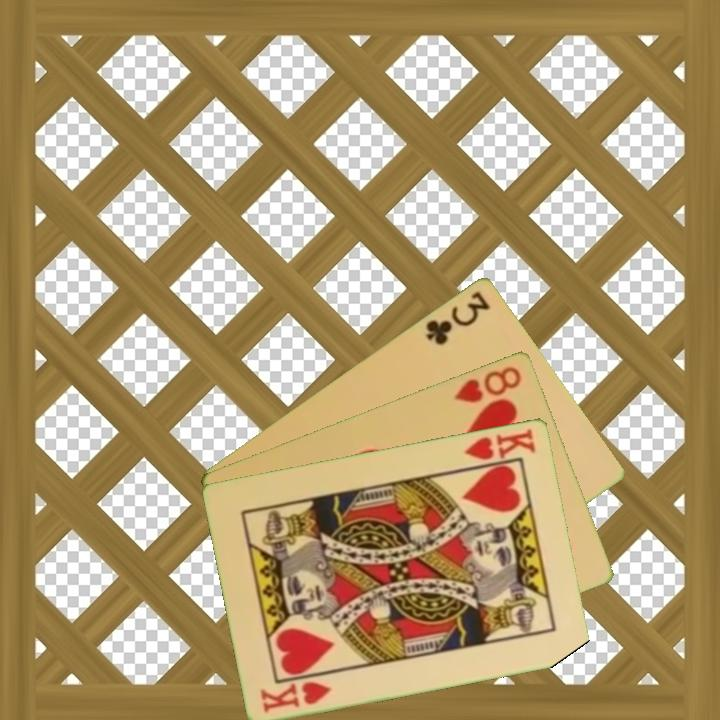3c: (422, 287, 494, 348)
8h: (451, 362, 525, 406)
Kh: (459, 425, 539, 471), (257, 677, 334, 715)
